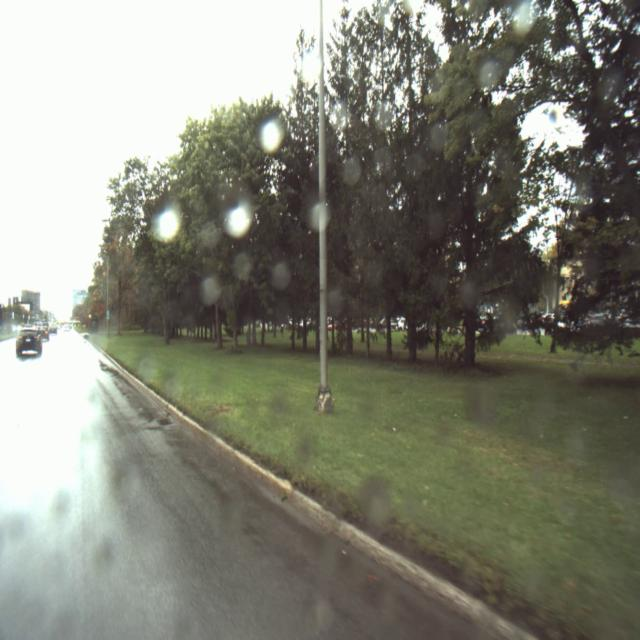car: (15, 329, 42, 359), (38, 325, 49, 341), (48, 323, 58, 335)
